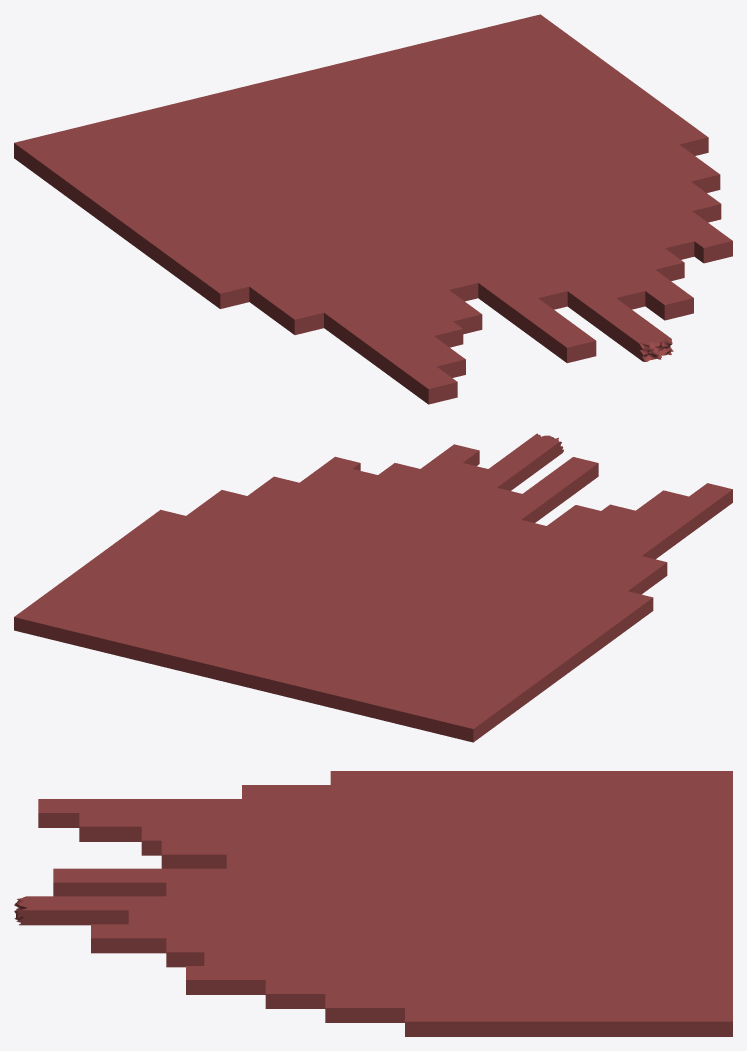
Rendered from LargeRoom_BrokenFloorHole.fbx.
The picture shows the model from 3 angles, top to bottom: view 1: azimuth 30°, elevation 25°; view 2: azimuth 150°, elevation 25°; view 3: azimuth 270°, elevation 25°; orthographic projection. The views are drawn at different scales.
Visible parts, largest first — view 1: Floor_Hole1; view 2: Floor_Hole1; view 3: Floor_Hole1.
Part boxes in pixels (x1=…): Floor_Hole1: x1=14, y1=14, x2=732, y2=404; Floor_Hole1: x1=14, y1=433, x2=732, y2=742; Floor_Hole1: x1=14, y1=771, x2=732, y2=1036.
Bounding box in the file's own units: 363 × 10.2 × 440.
